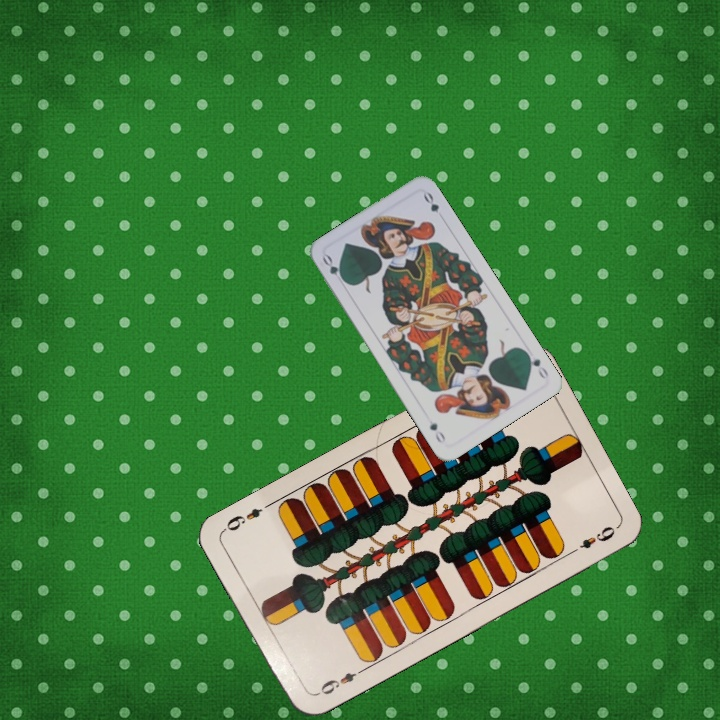E9: (310, 665, 365, 699)
GO: (318, 251, 350, 287), (521, 347, 551, 382)
